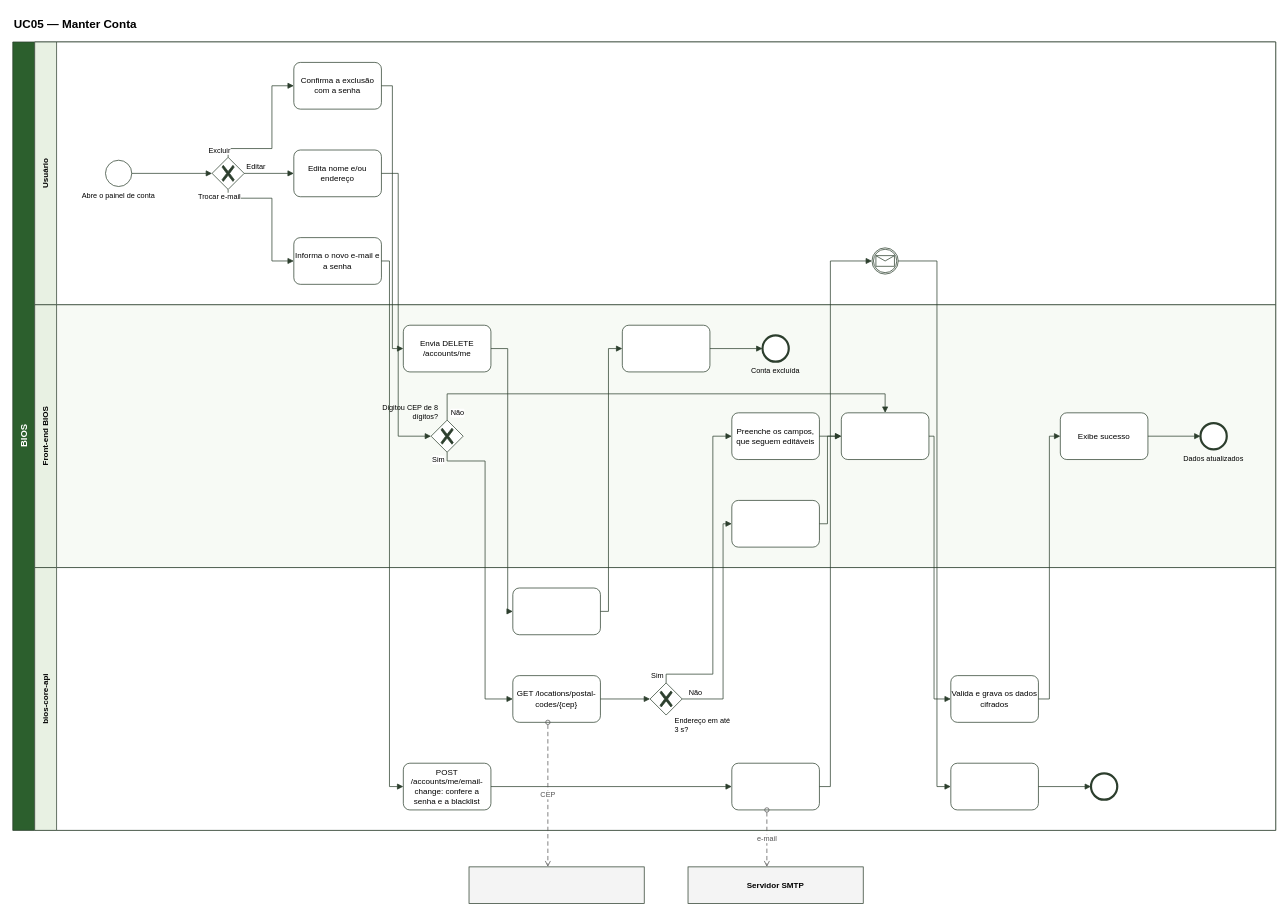
The diagram is 1288 pixels wide and 916 high, and some of its shapes have lost their labels. Each missing label, with the centre of its shape:
"Avisa e libera o preenchimento manual" goes at pixel 775 523.
"E-mail trocado" goes at pixel 1103 786.
"Envia o link ao novo e-mail" goes at pixel 775 786.
"Envia PATCH /accounts/me" goes at pixel 885 436.
"Exibe a tela inicial" goes at pixel 666 348.
"POST /accounts/confirm-email-change: efetiva a troca" goes at pixel 994 786.
"Recebe o link no novo e-mail" goes at pixel 884 260.
"Remove conta, sessões, tokens, chaves, bloqueios e e-mails" goes at pixel 556 611.
"ViaCEP" goes at pixel 556 884.
